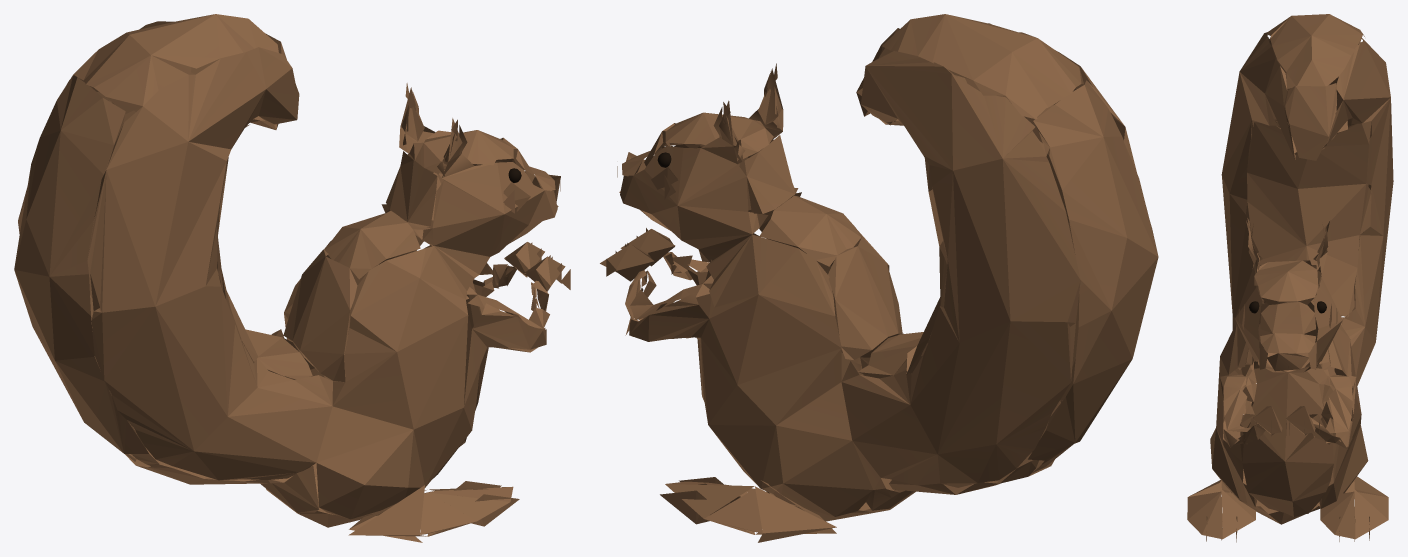
File: campus-squirrel-eyes-v2-2026-11-04.glb
The picture shows the model from 3 angles, left to right: view 1: azimuth 30°, elevation 25°; view 2: azimuth 150°, elevation 25°; view 3: azimuth 270°, elevation 25°; orthographic projection. The views are drawn at different scales.
Visible parts, largest first — view 1: Campus_squirrel_-_CC0_source; view 2: Campus_squirrel_-_CC0_source; view 3: Campus_squirrel_-_CC0_source.
Boxes of the visible parts, left/top/right/bottom form: Campus_squirrel_-_CC0_source: left=14, top=14, right=570, bottom=542; Campus_squirrel_-_CC0_source: left=600, top=14, right=1158, bottom=542; Campus_squirrel_-_CC0_source: left=1187, top=14, right=1393, bottom=542.
Bounding box in the file's own units: 0.55 × 0.5358 × 0.2304.
